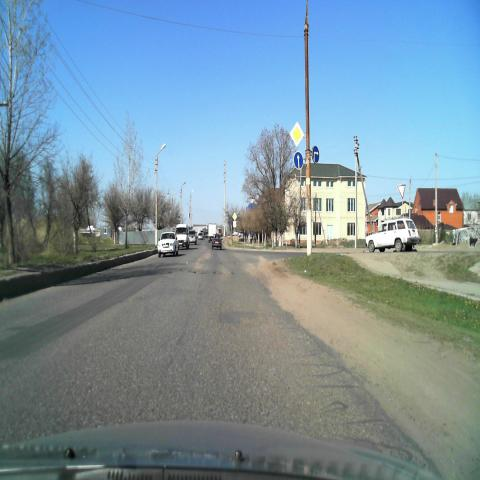4_1_2: (312, 145, 320, 164)
